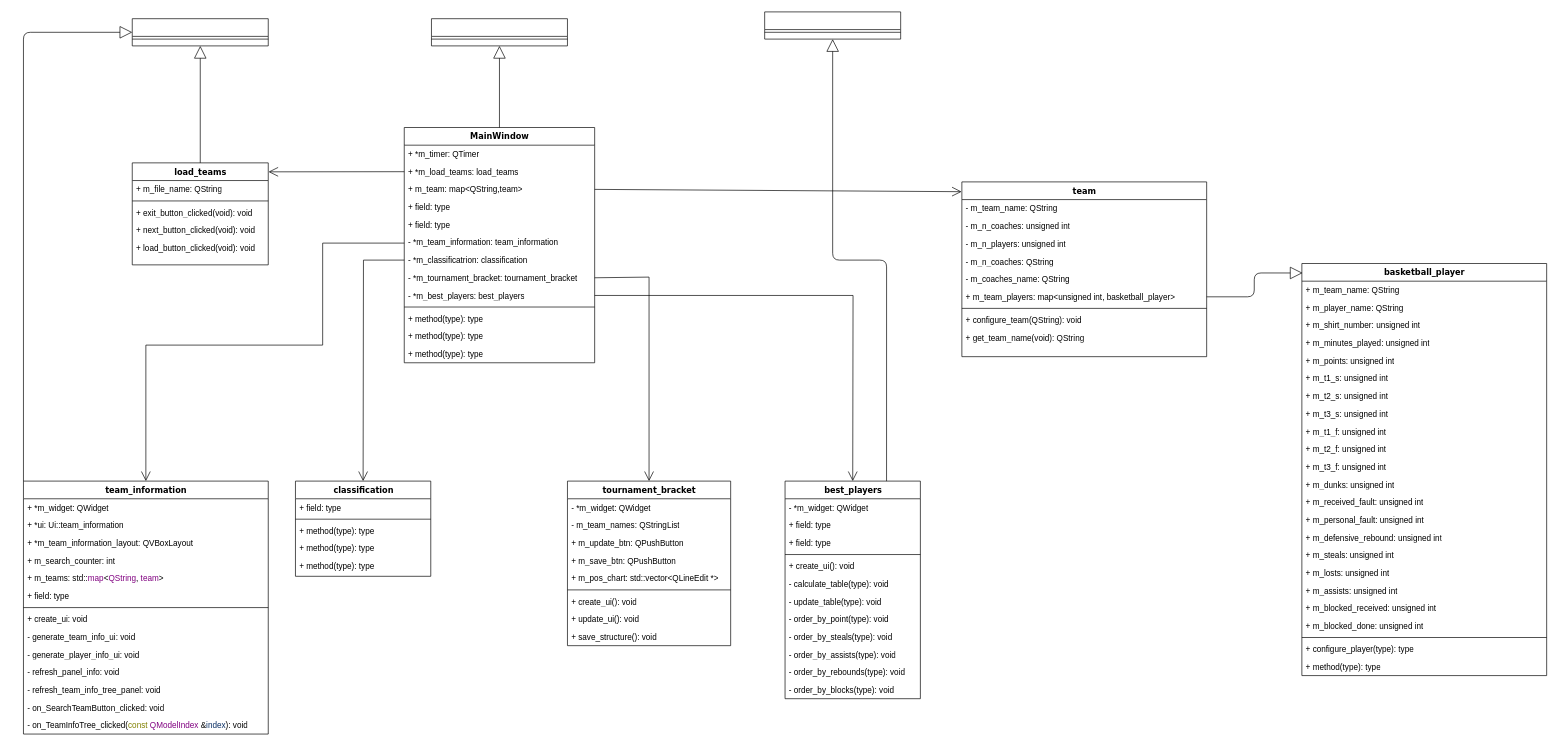
This 1559x748 diagram has some shape labels left out. The centre of each missing label's shape, as x and y in pixels:
"QMainWindow" belongs at (x=499, y=32).
"QObject" belongs at (x=832, y=25).
"QWidget" belongs at (x=200, y=32).
